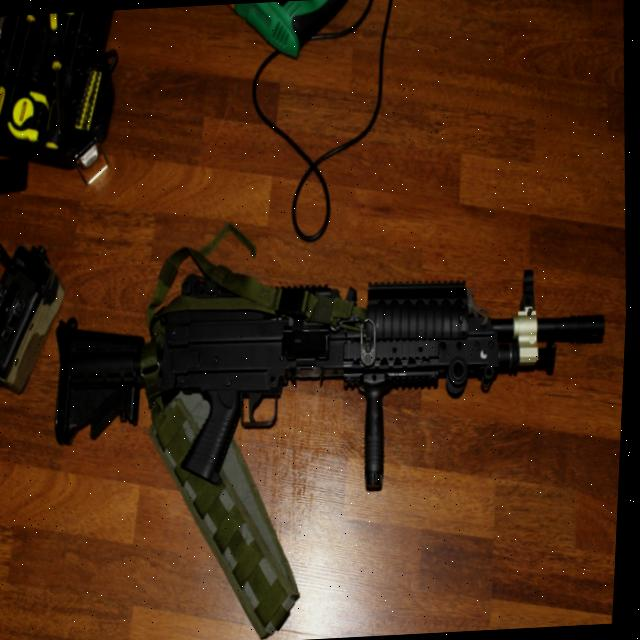firearm: (52, 264, 616, 506)
